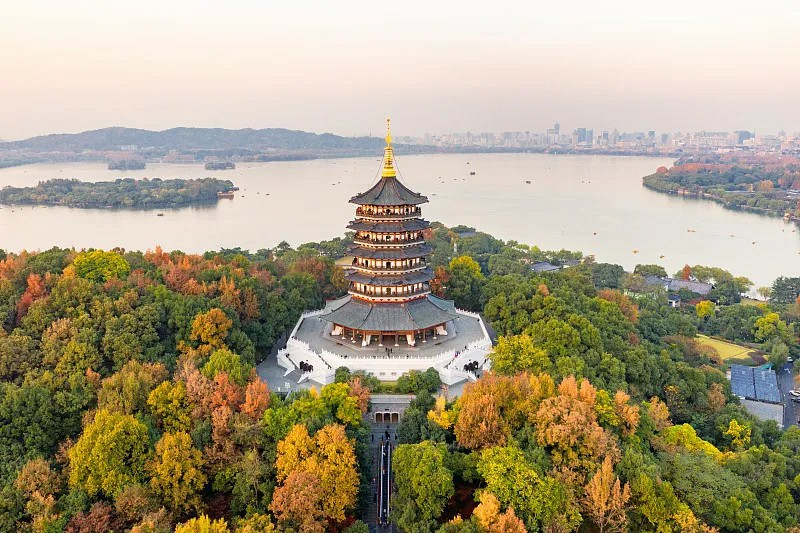Leifeng: (318, 121, 460, 348)
